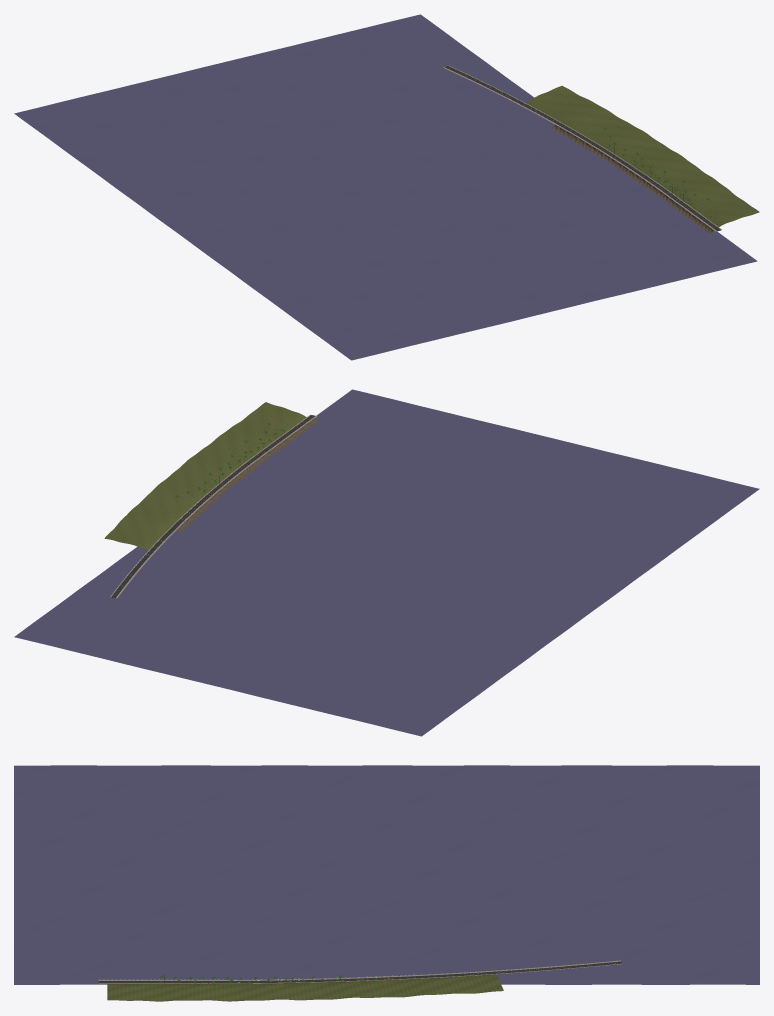
File: Seafront_Textured.glb
3 renders of one model, top to bottom at view 1: azimuth 30°, elevation 25°; view 2: azimuth 150°, elevation 25°; view 3: azimuth 270°, elevation 25°, orthographic. The views are drawn at different scales.
Parts seen in each view (by area): view 1: Near_ocean_wave_geometry, Undulating_coastal_land_slope, Two_way_road_7m20, Continuous_rocky_seawall_slope; view 2: Near_ocean_wave_geometry, Undulating_coastal_land_slope, Two_way_road_7m20, Continuous_rocky_seawall_slope; view 3: Near_ocean_wave_geometry, Undulating_coastal_land_slope, Two_way_road_7m20, Promenade_2m25, Inland_walk_1m10.
Part boxes in pixels (x1,y1,x2,y2): Near_ocean_wave_geometry: (14, 14, 757, 360); Undulating_coastal_land_slope: (526, 85, 759, 226); Two_way_road_7m20: (445, 66, 721, 231); Continuous_rocky_seawall_slope: (552, 124, 713, 233); Near_ocean_wave_geometry: (14, 389, 759, 736); Undulating_coastal_land_slope: (104, 402, 306, 550); Two_way_road_7m20: (111, 415, 315, 598); Continuous_rocky_seawall_slope: (178, 418, 319, 531); Near_ocean_wave_geometry: (14, 765, 759, 984); Undulating_coastal_land_slope: (107, 974, 503, 1001); Two_way_road_7m20: (99, 961, 622, 983); Promenade_2m25: (99, 960, 620, 980); Inland_walk_1m10: (99, 963, 622, 983).
Size of the model in its own units: 710 by 17.68 by 920.
Materials: 13 (7 with a texture image).
